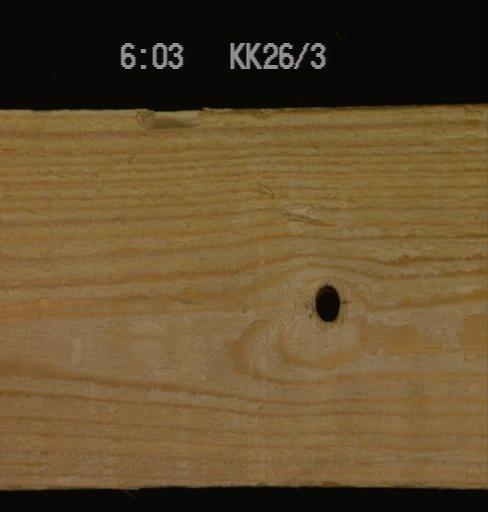wave: (129, 108, 209, 135)
